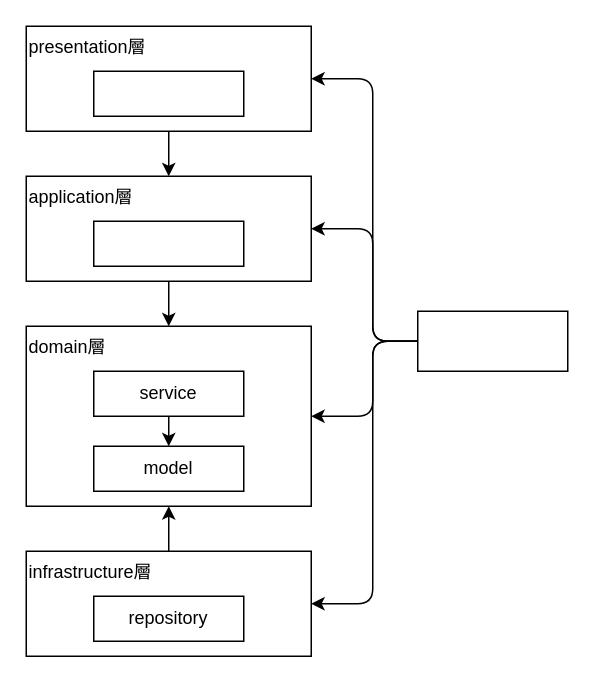
Some shapes in this 594 by 683 pixel diagram are drawn without their labels. Here are the shapes that lost their labels. From the top down, the centre of each, then its label:
(168,93): handler
(168,243): usecase
(492,340): registry
